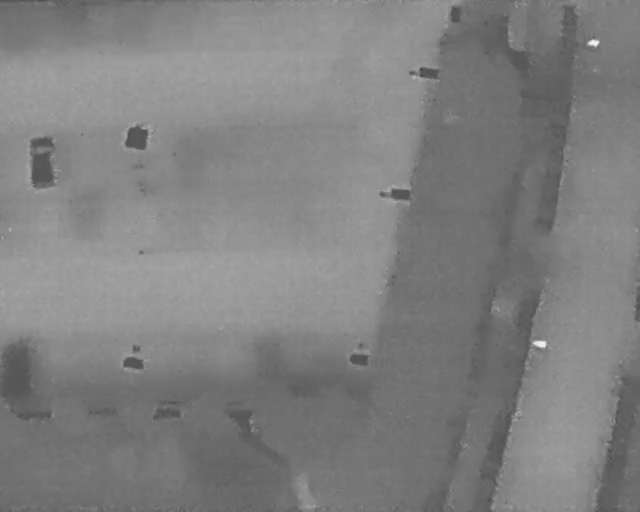Car: (25, 133, 59, 190)
